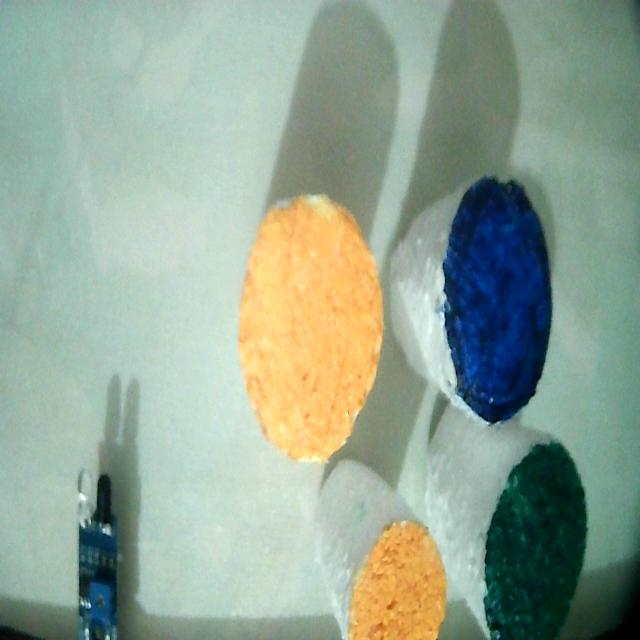blue: (444, 184, 549, 422)
green: (481, 441, 586, 639)
yellow: (239, 196, 383, 461), (348, 525, 446, 639)
